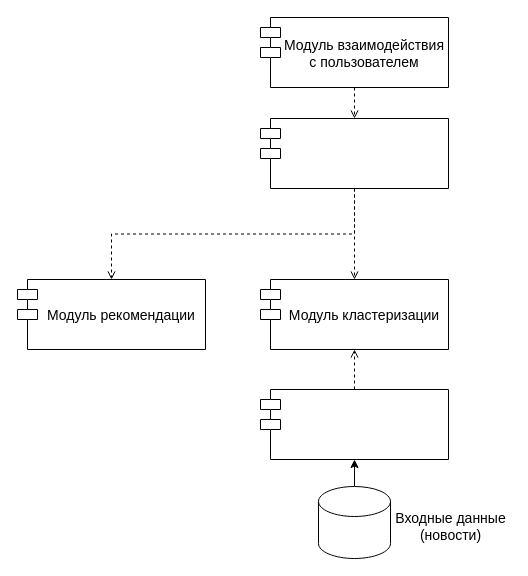
Some shapes in this 528 by 576 pixel diagram are drawn without their labels. Each missing label, with the box of its shape:
Модуль предобработки входных данных: (260, 388, 448, 460)
Модуль управления: (260, 118, 448, 188)
